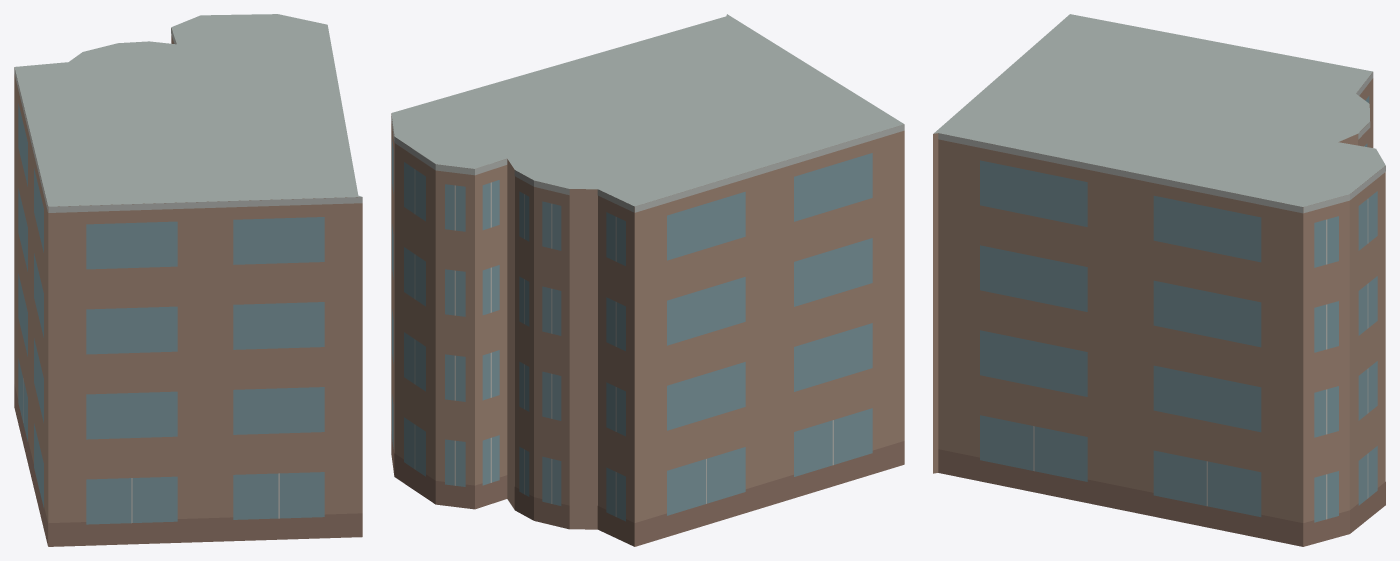
File: survey-upis-32774051.glb
3 renders of one model, left to right at view 1: azimuth 30°, elevation 25°; view 2: azimuth 150°, elevation 25°; view 3: azimuth 270°, elevation 25°, orthographic.
Parts seen in each view (by area): view 1: survey-upis-32774051.tmp; view 2: survey-upis-32774051.tmp; view 3: survey-upis-32774051.tmp.
Part boxes in pixels (x1=…): survey-upis-32774051.tmp: x1=14, y1=14, x2=362, y2=546; survey-upis-32774051.tmp: x1=391, y1=14, x2=904, y2=546; survey-upis-32774051.tmp: x1=933, y1=14, x2=1385, y2=546.
Bounding box in the file's own units: 16.04 × 13.15 × 15.89.
